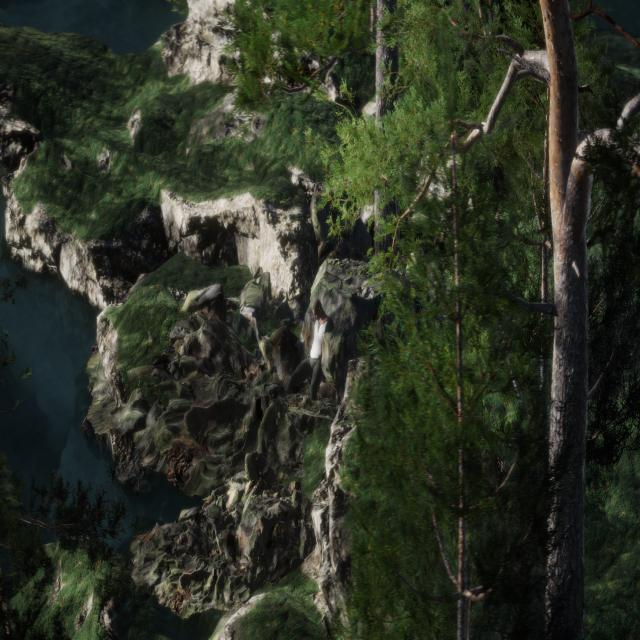Human: (274, 294, 338, 415)
